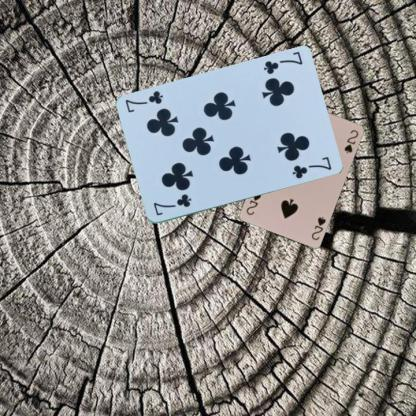2s: (309, 214, 327, 241)
7c: (260, 49, 304, 76), (150, 191, 192, 217)
